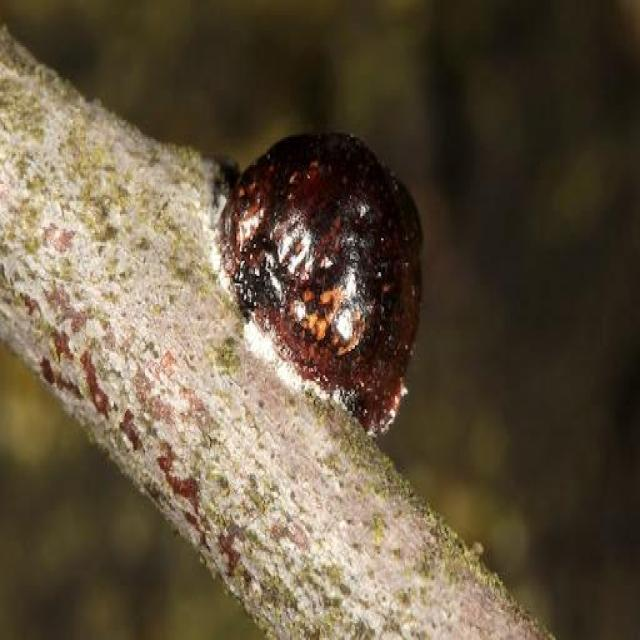Black Scale: (220, 131, 420, 417)
